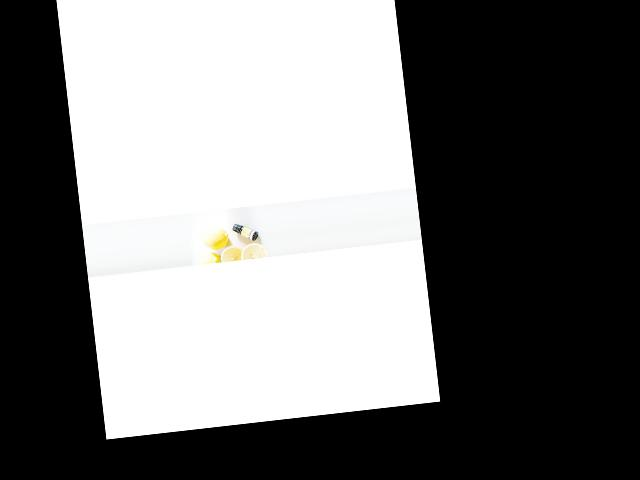lemon: (202, 228, 229, 248)
